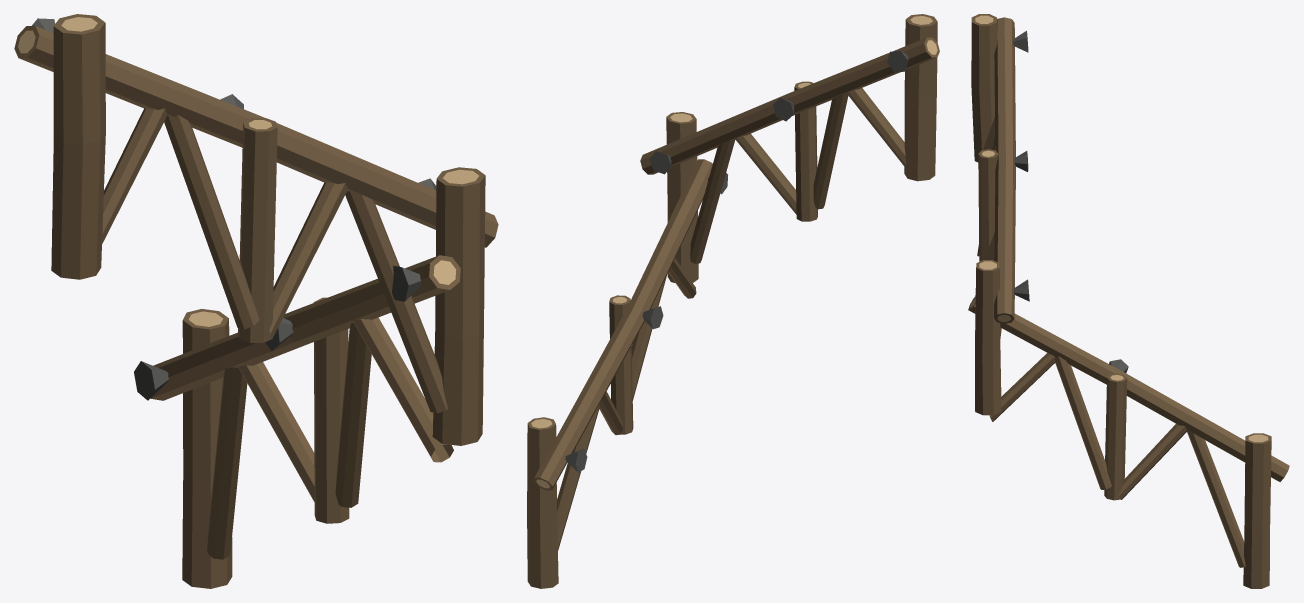
Rendered from rpgpp_ag_wall_platform_stairs_02b_4m_handrail_02.fbx.
3 views of the same model, side by side, from view 1: azimuth 30°, elevation 25°; view 2: azimuth 150°, elevation 25°; view 3: azimuth 270°, elevation 25° (orthographic). The views are drawn at different scales.
Visible parts, largest first — view 1: rpgpp_ag_wall_platform_stairs_02b_4m_handrail_02; view 2: rpgpp_ag_wall_platform_stairs_02b_4m_handrail_02; view 3: rpgpp_ag_wall_platform_stairs_02b_4m_handrail_02.
Part boxes in pixels (left/top/right/bottom): rpgpp_ag_wall_platform_stairs_02b_4m_handrail_02: left=14, top=14, right=498, bottom=588; rpgpp_ag_wall_platform_stairs_02b_4m_handrail_02: left=527, top=14, right=939, bottom=588; rpgpp_ag_wall_platform_stairs_02b_4m_handrail_02: left=968, top=14, right=1289, bottom=588.
Bounding box in the file's own units: 3.23 × 5.32 × 3.35.
